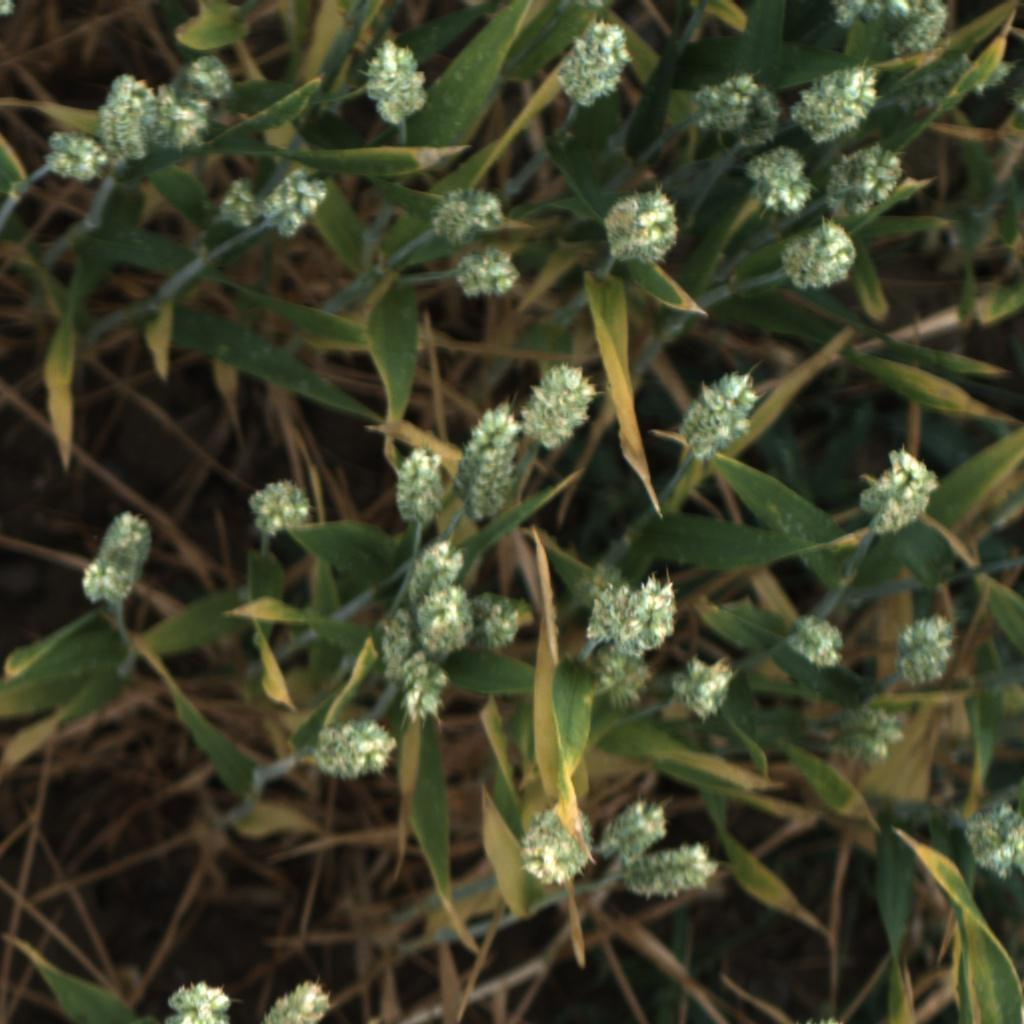0-0: (882, 47, 1019, 123), (449, 398, 524, 524), (514, 356, 604, 451), (77, 508, 159, 612), (512, 798, 601, 889), (689, 70, 783, 154), (554, 16, 635, 113), (856, 447, 941, 539), (355, 36, 439, 126), (790, 58, 880, 142), (676, 371, 760, 461), (596, 186, 683, 270), (619, 839, 723, 907), (821, 144, 908, 221), (618, 572, 694, 655), (96, 71, 160, 165), (779, 222, 859, 297), (742, 145, 815, 226), (566, 573, 639, 652), (307, 720, 400, 781), (260, 162, 332, 239), (889, 613, 961, 690), (239, 475, 319, 544), (433, 182, 509, 252), (591, 793, 670, 860), (957, 803, 1024, 880), (826, 701, 906, 765), (365, 599, 429, 678), (388, 446, 451, 524), (669, 656, 741, 723), (153, 77, 209, 162), (411, 582, 475, 656), (445, 248, 525, 304), (383, 656, 447, 725), (37, 132, 112, 189), (787, 610, 851, 675), (476, 590, 539, 655), (882, 7, 957, 61), (240, 981, 331, 1024), (159, 976, 235, 1024), (589, 652, 652, 709), (830, 0, 957, 27), (407, 539, 467, 595), (216, 172, 267, 236), (180, 49, 233, 106)
